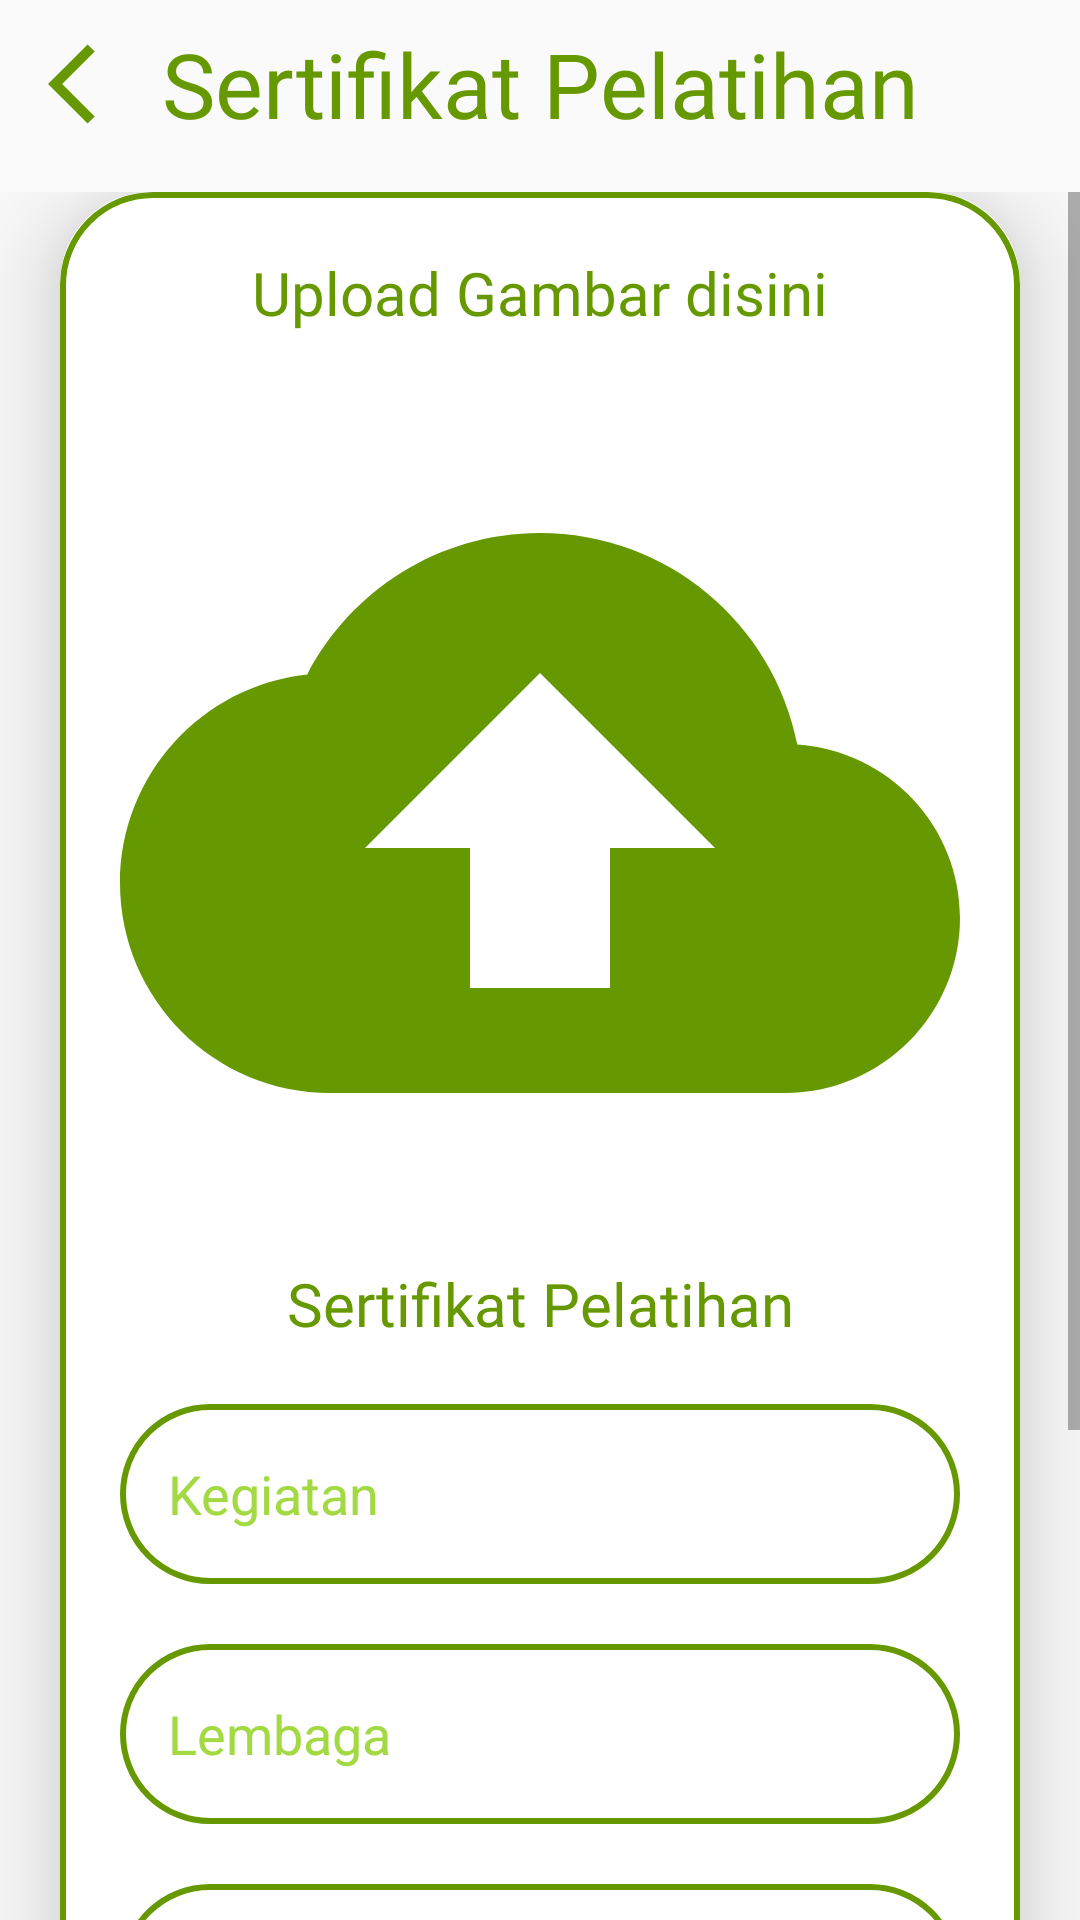

Named icons in this screenshot (1080px×1920px) and their bounding boxes, (x1,y1,x2,y2):
backicon: (48,44,95,124)
